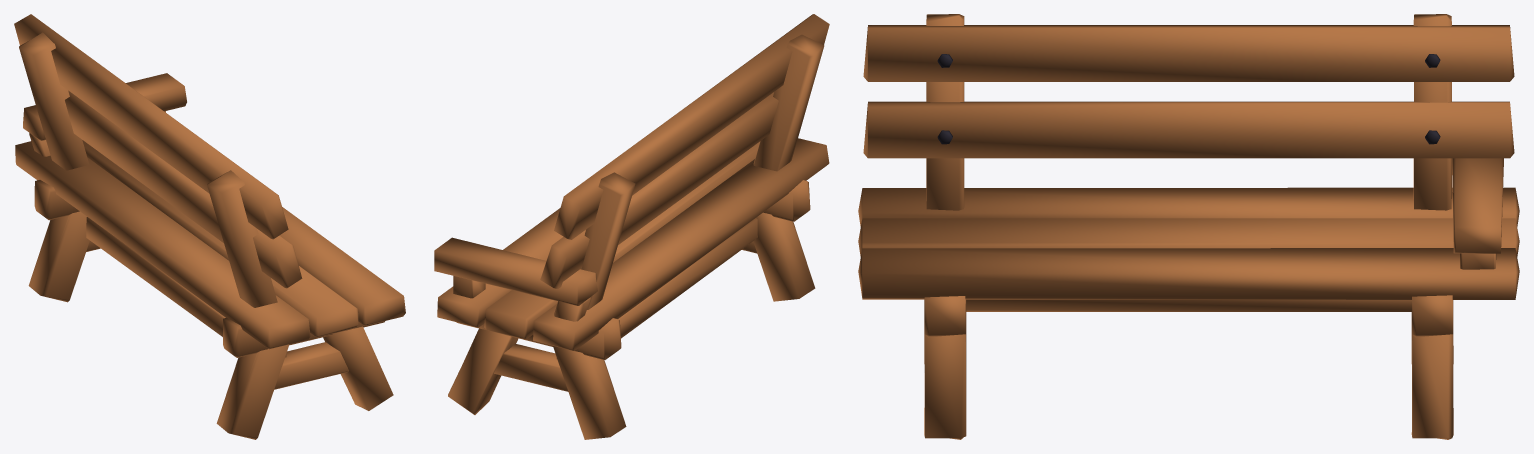
3 views of the same model, side by side, from view 1: azimuth 30°, elevation 25°; view 2: azimuth 150°, elevation 25°; view 3: azimuth 270°, elevation 25° (orthographic). The views are drawn at different scales.
Parts seen in each view (by area): view 1: body; view 2: body; view 3: body, object 1.
Boxes of the visible parts, x1=… form: body: x1=14, y1=14, x2=405, y2=439; body: x1=434, y1=14, x2=829, y2=439; body: x1=858, y1=14, x2=1519, y2=439; object 1: x1=937, y1=54, x2=1440, y2=144.
Bounding box in the file's own units: 0.7542 × 1.09 × 1.9.
